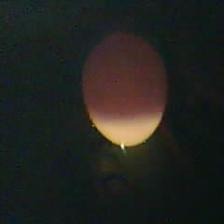fertile: (74, 23, 176, 154)
